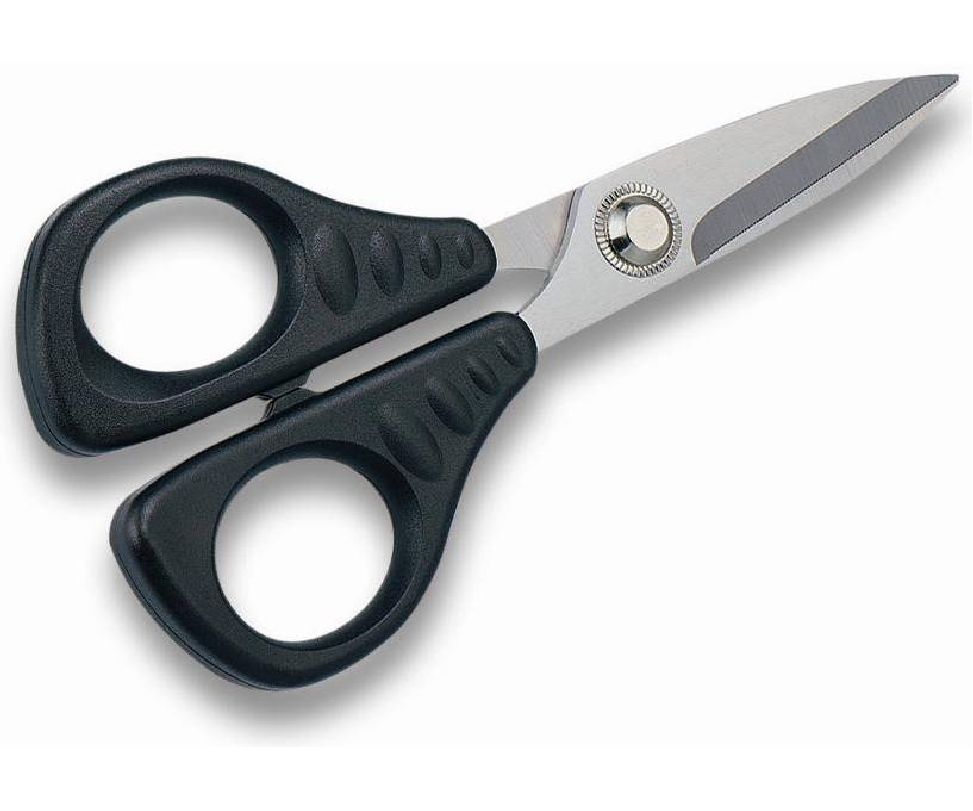scissors: (10, 70, 965, 692)
